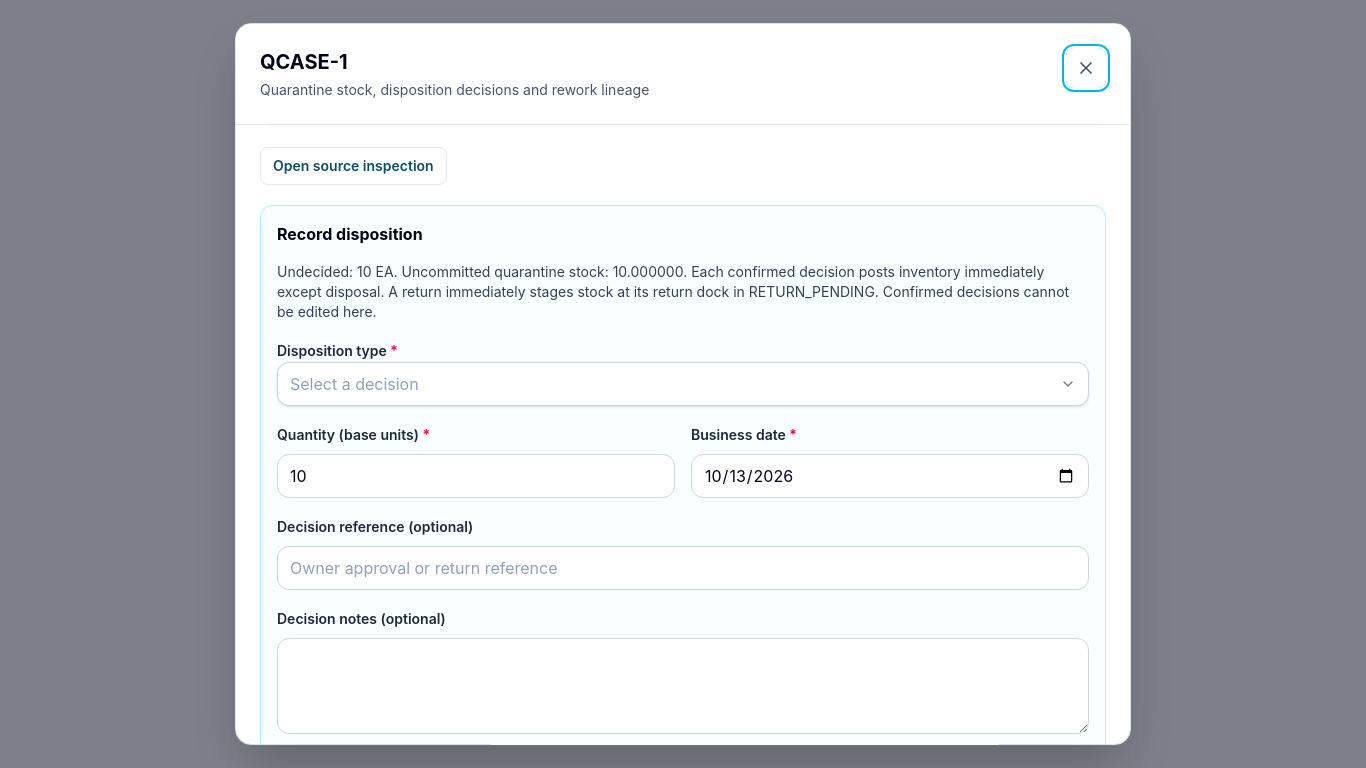
quarantine decisions › confirms the RETURN lifecycle for a fully committed case
(page scrolled)
Step 1. Click the dropdown named "Disposition type" → (354, 384), box [277, 362, 1089, 406]
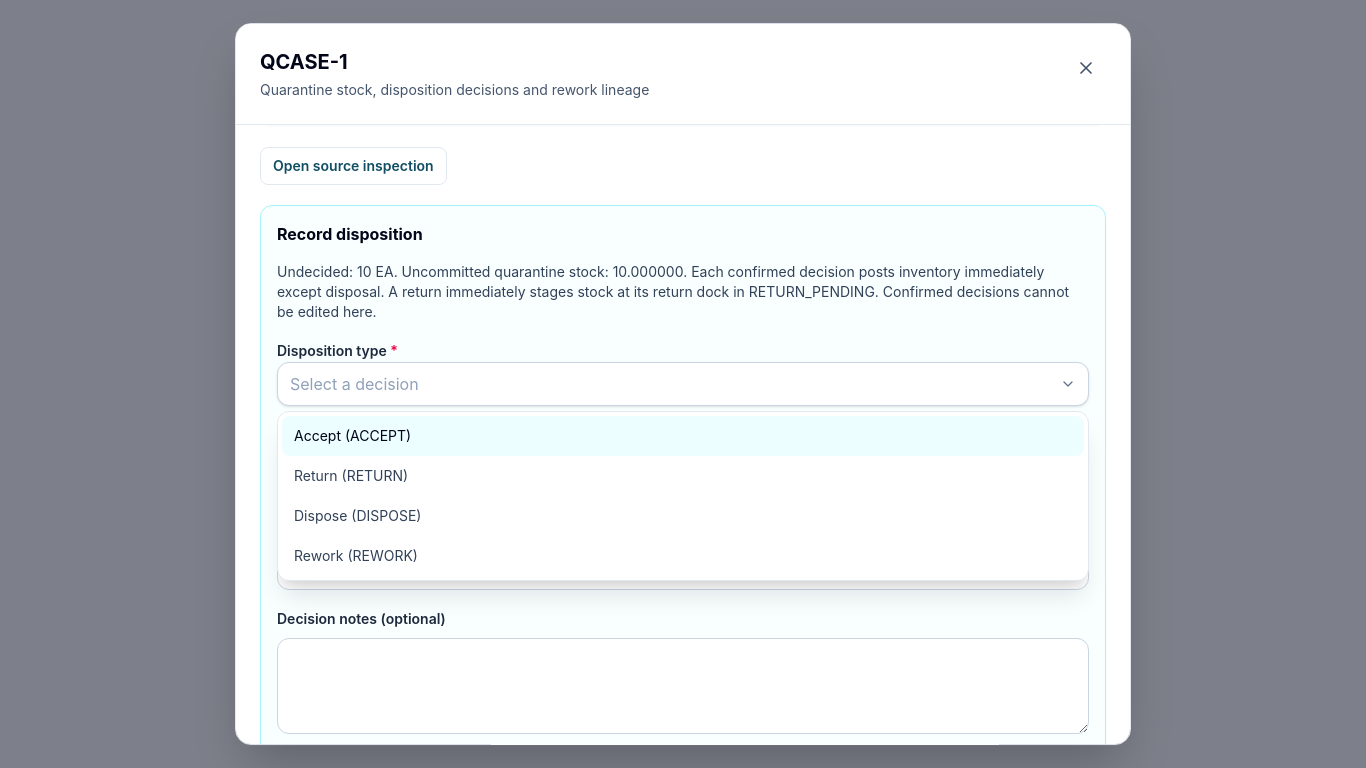
Step 2. Click the option "Return (RETURN)" → (351, 476), box [294, 467, 408, 484]
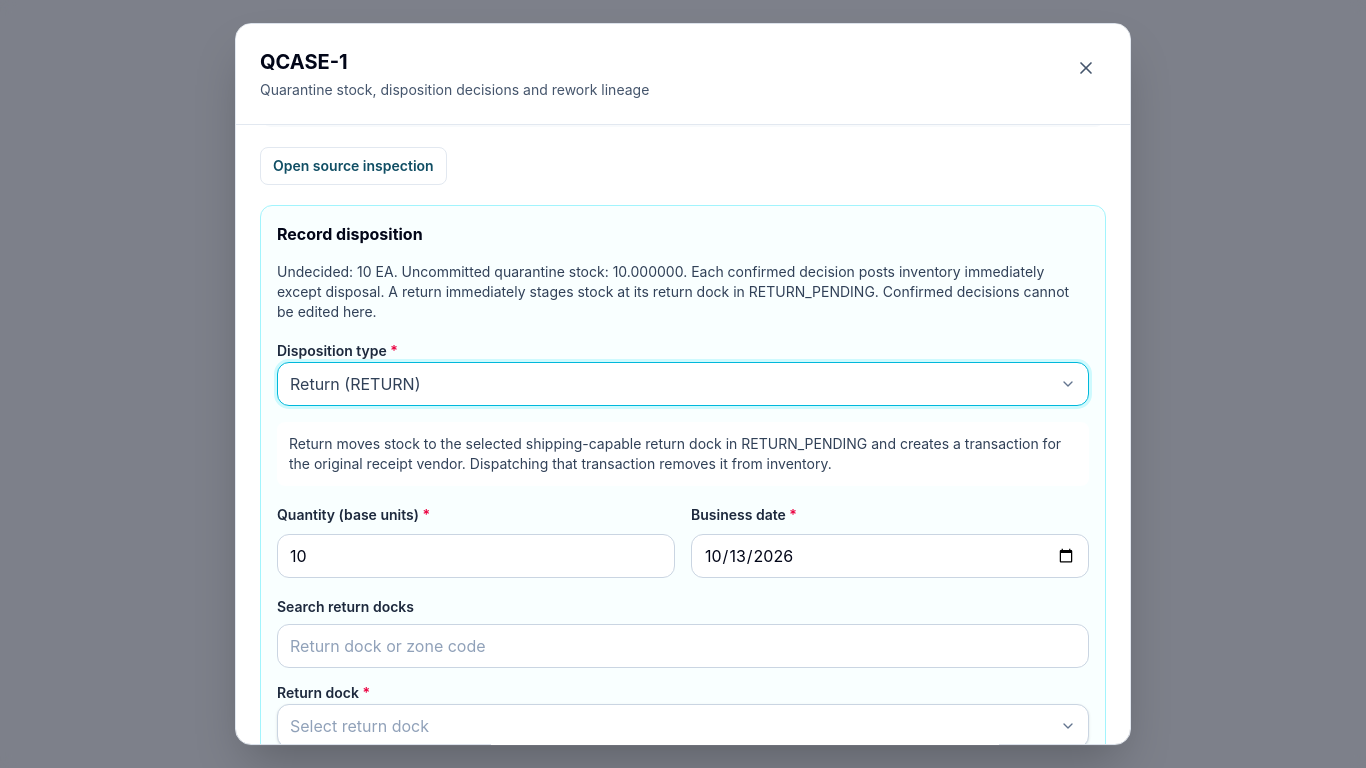
Expected: the dropdown labelled "return dock" is enabled
Step 3. Click the dropdown labelled "return dock" → (360, 726), box [277, 704, 1089, 748]
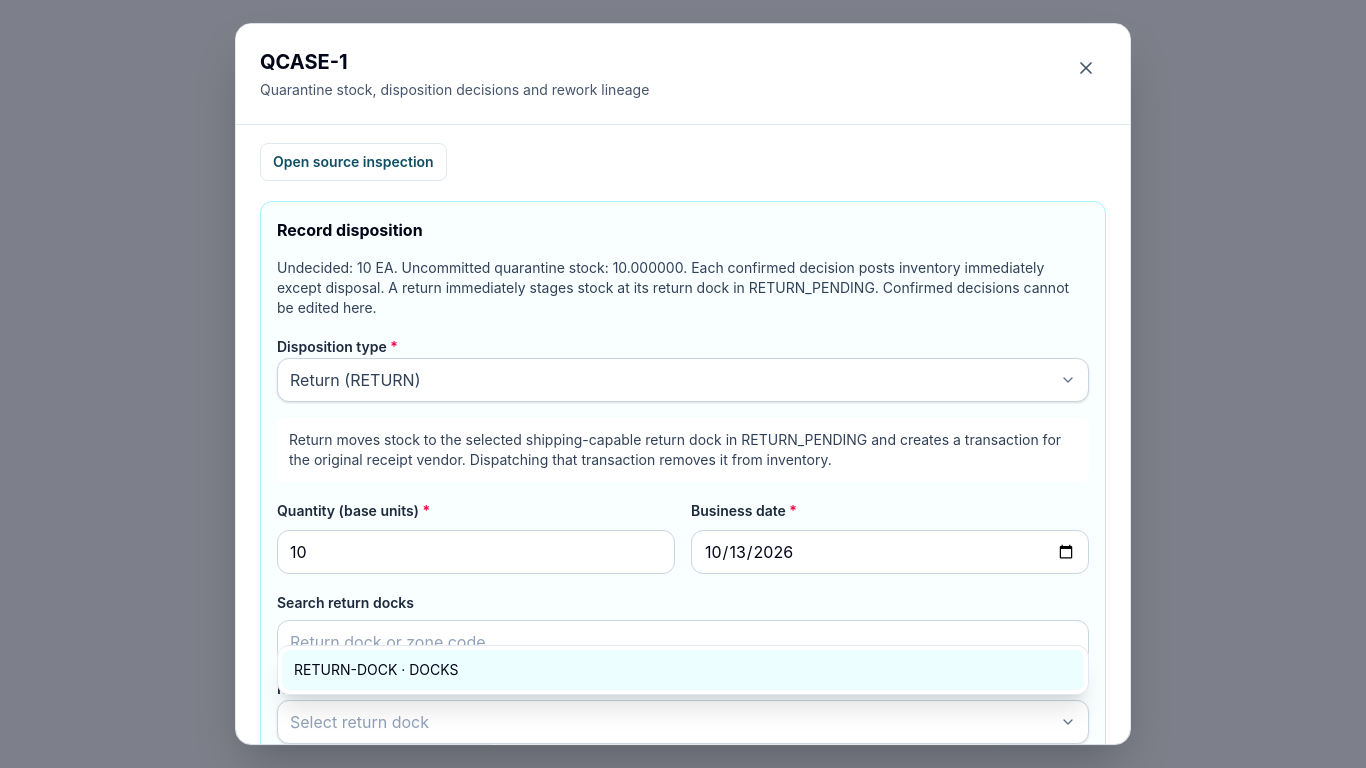
Step 4. Click the option "RETURN-DOCK · DOCKS" → (376, 670), box [282, 650, 1084, 690]
(page scrolled)
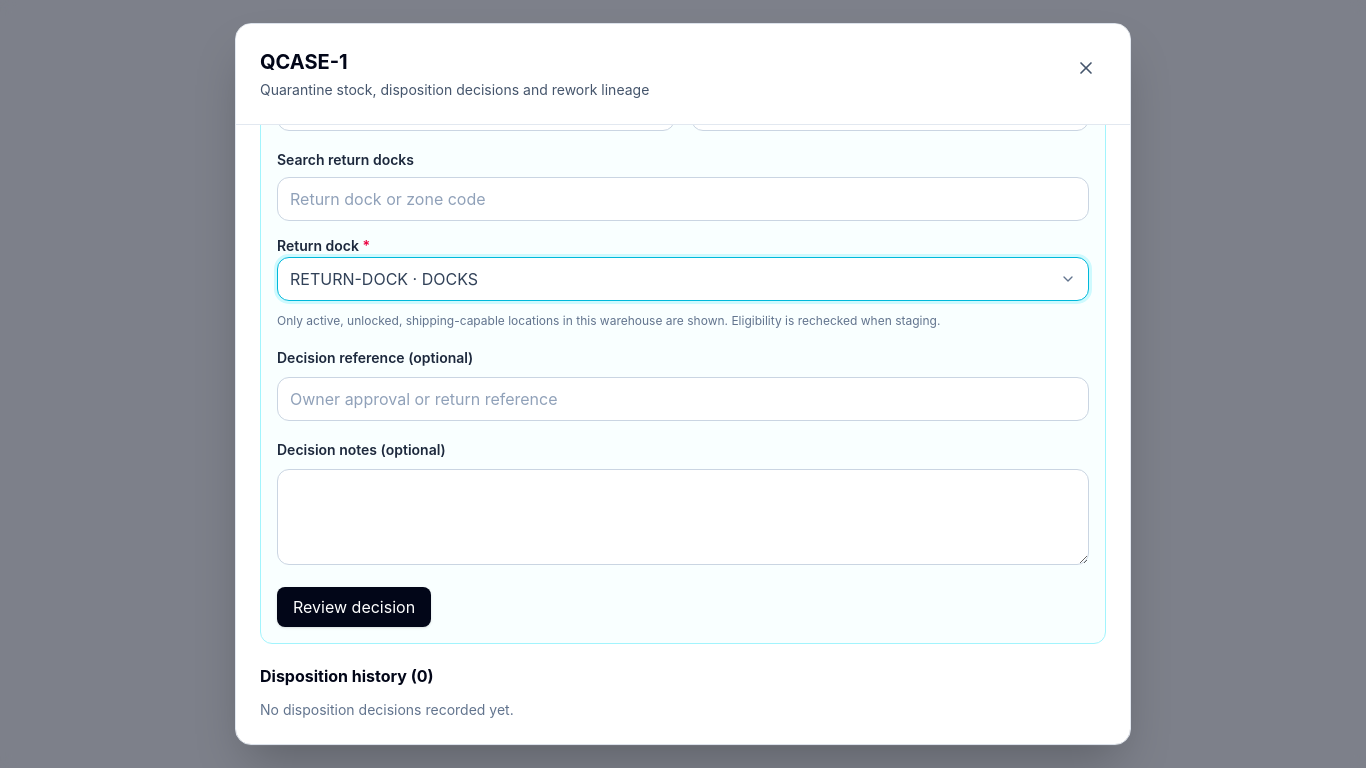
Step 5. Click the button "Review decision" → (354, 607), box [277, 587, 431, 627]
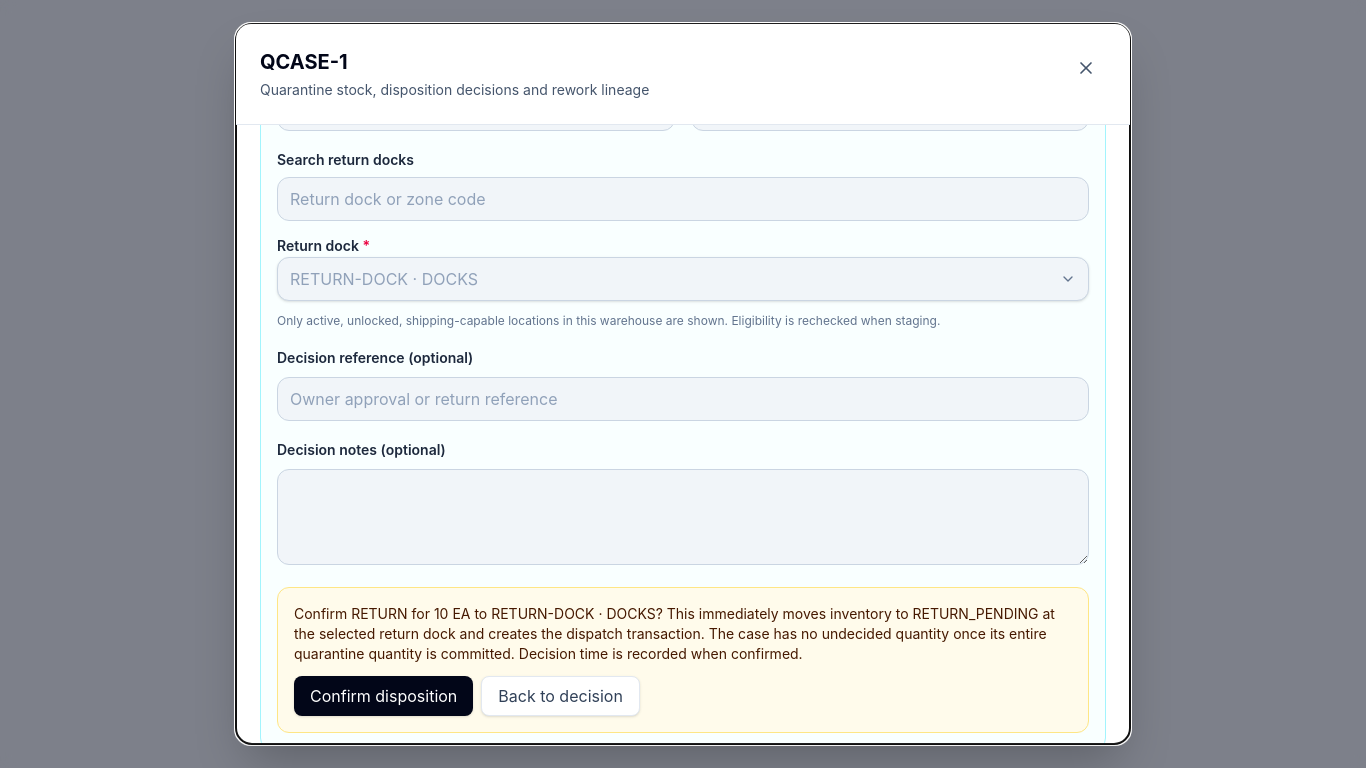
Step 6. Click the button "Confirm disposition" → (384, 696), box [294, 676, 473, 716]
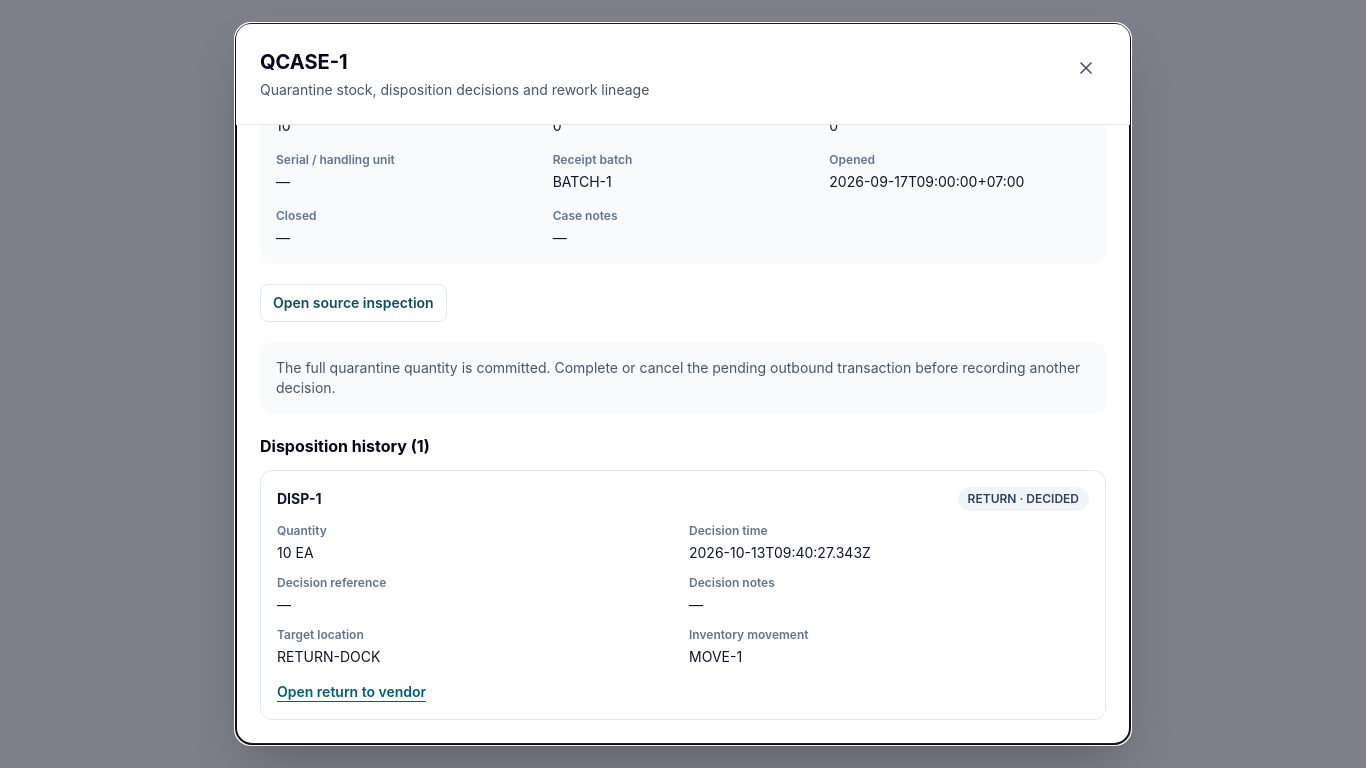
Expected: the button "Review decision" is not shown
Expected: the text "RETURN-DOCK" is shown, [277, 648, 380, 665]
Expected: the text "full quarantine quantity is committed" is shown, [276, 359, 1080, 396]
